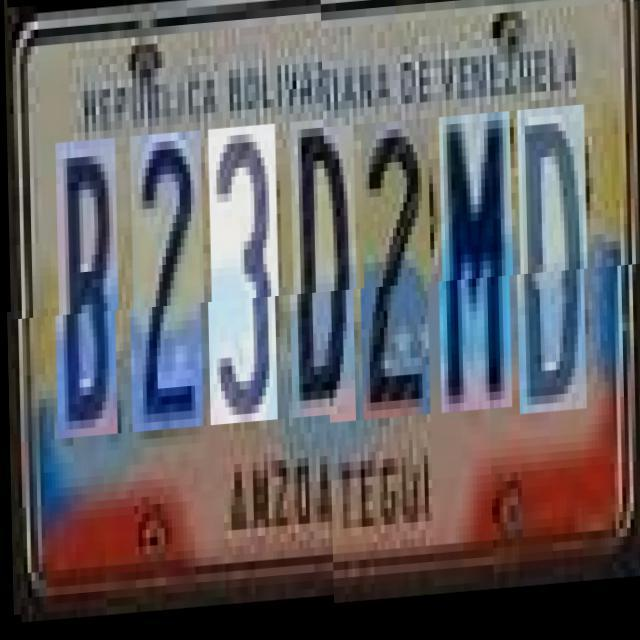2: (129, 134, 205, 434), (359, 118, 432, 418)
3: (207, 129, 279, 429)
B: (54, 140, 120, 440)
D: (516, 107, 588, 416), (288, 124, 358, 424)
M: (438, 112, 514, 412)
